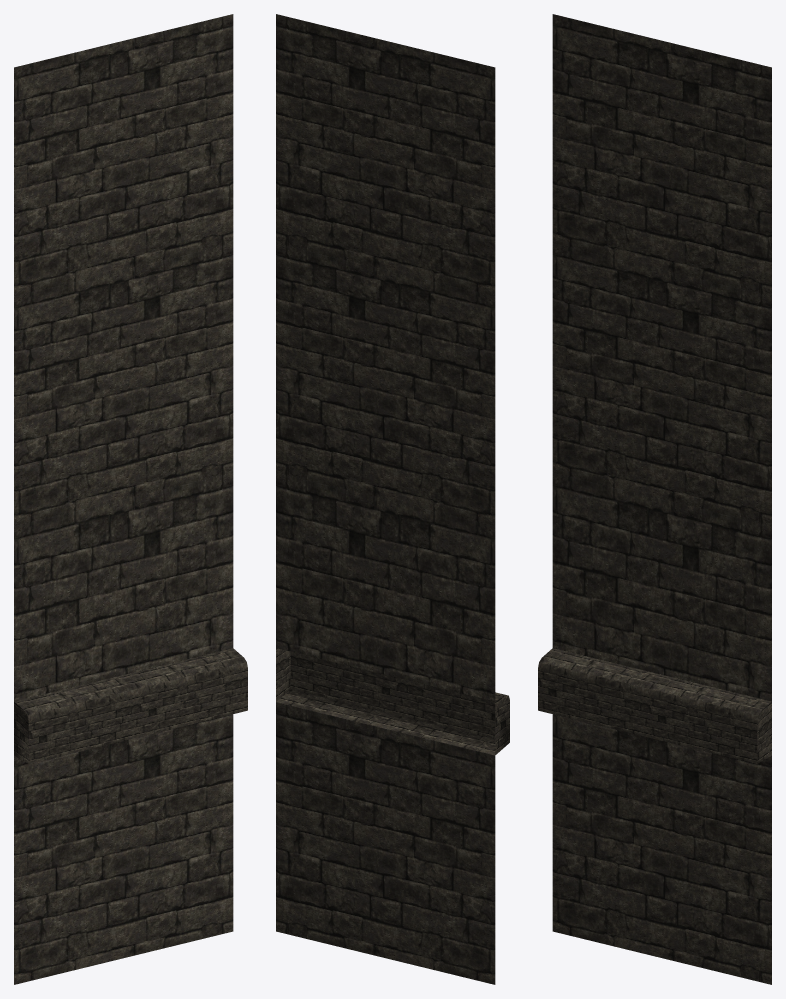
File: wallBlock.fbx
3 views of the same model, side by side, from view 1: azimuth 30°, elevation 25°; view 2: azimuth 150°, elevation 25°; view 3: azimuth 330°, elevation 25° (orthographic).
Visible parts, largest first — view 1: polySurface77; view 2: polySurface77; view 3: polySurface77.
Part boxes in pixels (left/top/right/bottom): polySurface77: left=14, top=14, right=247, bottom=984; polySurface77: left=276, top=14, right=509, bottom=984; polySurface77: left=538, top=14, right=771, bottom=984.
Bounding box in the file's own units: 2 × 8 × 0.2314.
1 material, 1 textured.
